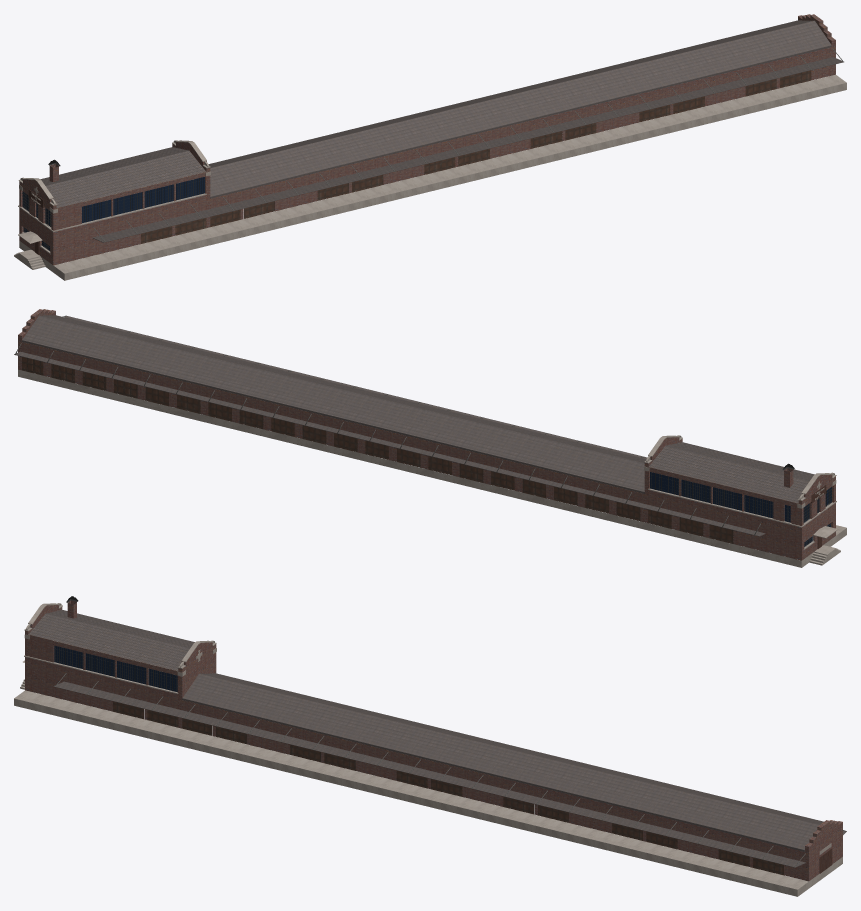
File: Secondary_KentuckyTerminal-v2.glb
3 views of the same model, one above another, from view 1: azimuth 30°, elevation 25°; view 2: azimuth 150°, elevation 25°; view 3: azimuth 330°, elevation 25° (orthographic).
Parts seen in each view (by area): view 1: SmallTrainTerminal_FBX.001; view 2: SmallTrainTerminal_FBX.001; view 3: SmallTrainTerminal_FBX.001.
Boxes of the visible parts, <box> form: SmallTrainTerminal_FBX.001: <box>14,14,846,280</box>; SmallTrainTerminal_FBX.001: <box>14,309,846,567</box>; SmallTrainTerminal_FBX.001: <box>14,596,846,896</box>.
Size of the model in its own units: 124 by 13.31 by 13.84.
Materials: 8 (8 with a texture image).
